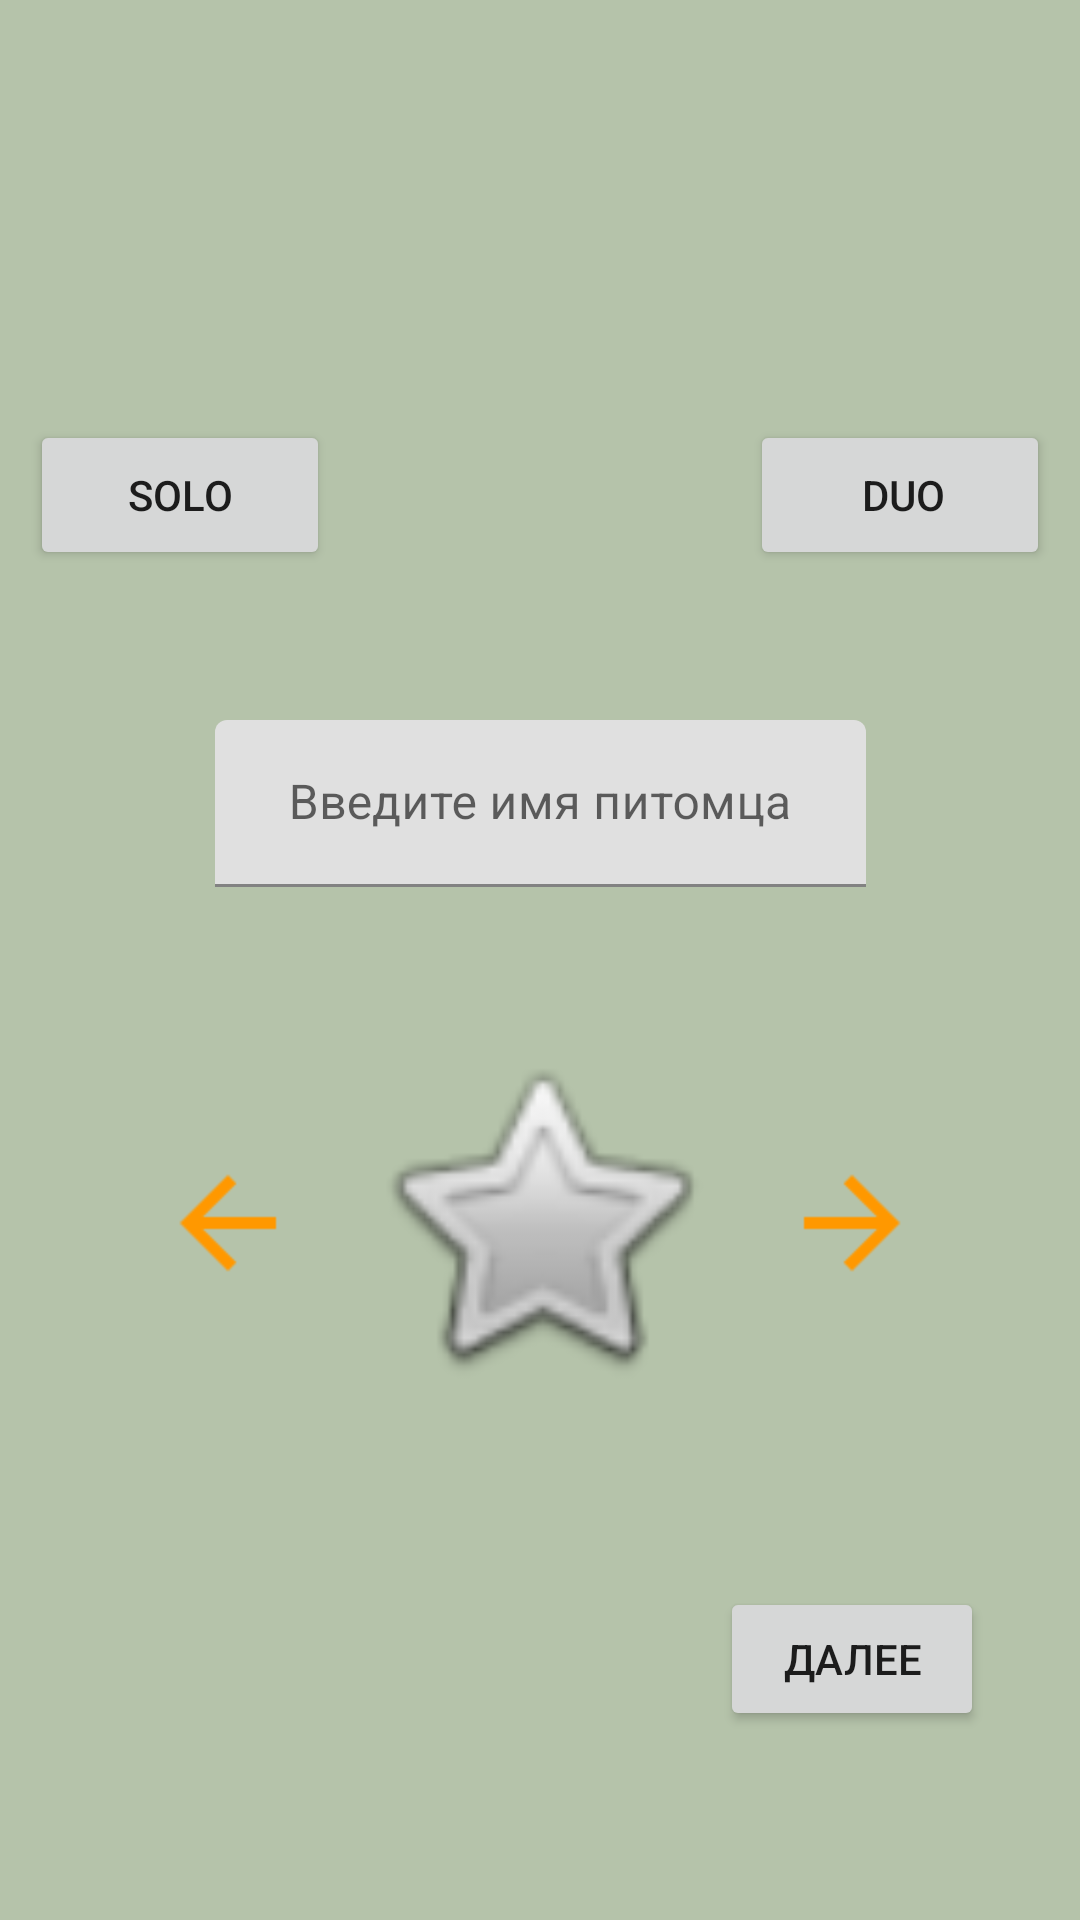

Icons on this 1080w x 1920h Android screen, each with the point to tap as (x,y):
star: (543,1220)
